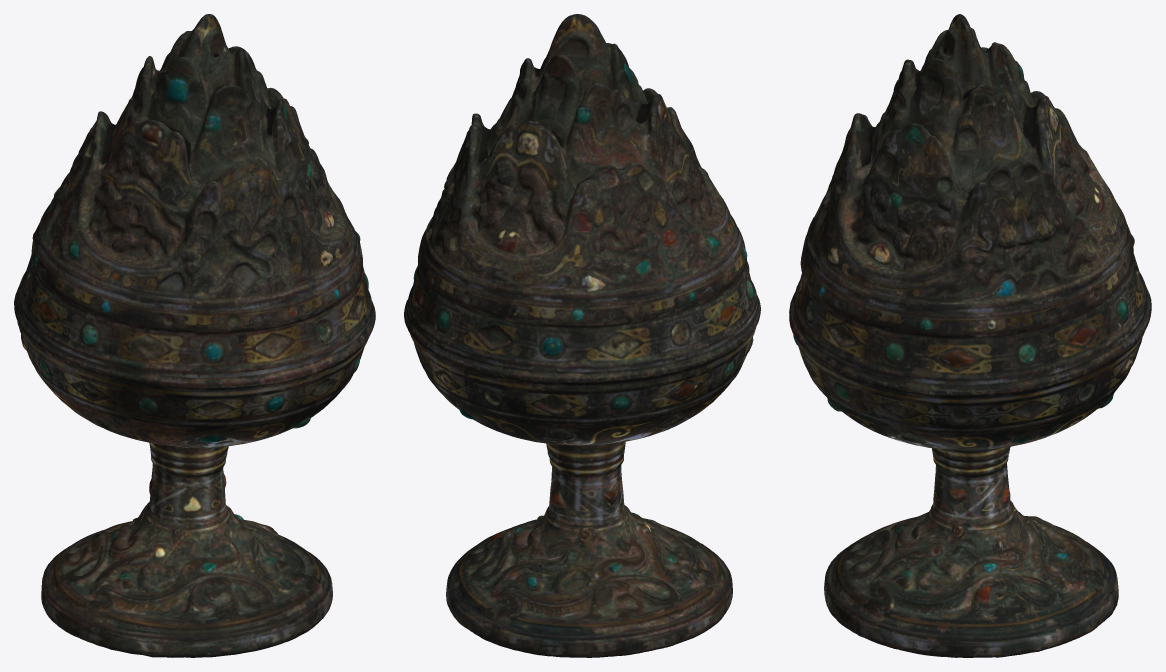
The model's file is hero_era_art_history_ancient_art_architecture_92f3c7.glb.
3 renders of one model, left to right at view 1: azimuth 30°, elevation 25°; view 2: azimuth 150°, elevation 25°; view 3: azimuth 270°, elevation 25°, orthographic. The views are drawn at different scales.
Size of the model in its own units: 101 by 179 by 99.97.
Materials: 1 (1 with a texture image).
